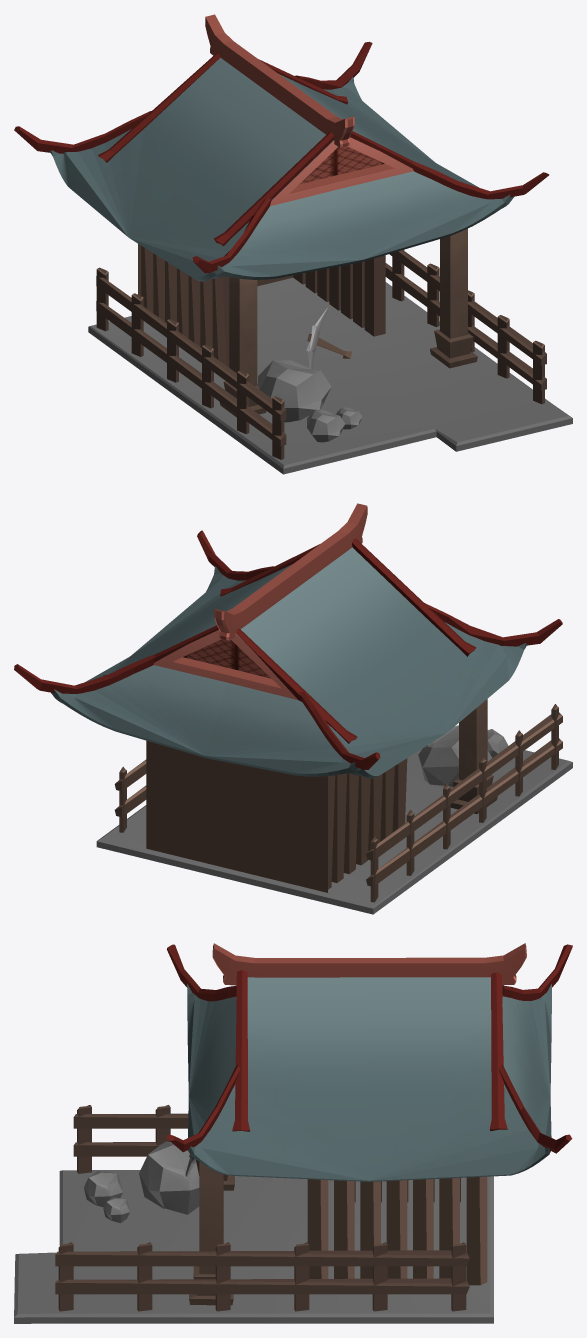
The model's file is mine_2lvl.fbx.
3 renders of one model, top to bottom at view 1: azimuth 30°, elevation 25°; view 2: azimuth 150°, elevation 25°; view 3: azimuth 270°, elevation 25°, orthographic. The views are drawn at different scales.
Visible parts, largest first — view 1: mine_2lvl; view 2: mine_2lvl; view 3: mine_2lvl.
Part boxes in pixels (bbox=[...]): mine_2lvl: bbox=[14, 14, 572, 474]; mine_2lvl: bbox=[14, 503, 572, 914]; mine_2lvl: bbox=[14, 943, 572, 1323].
Size of the model in its own units: 5.26 by 3.86 by 6.4.
1 material, 1 textured.
